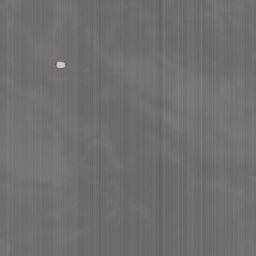Target: (54, 59, 68, 71)
